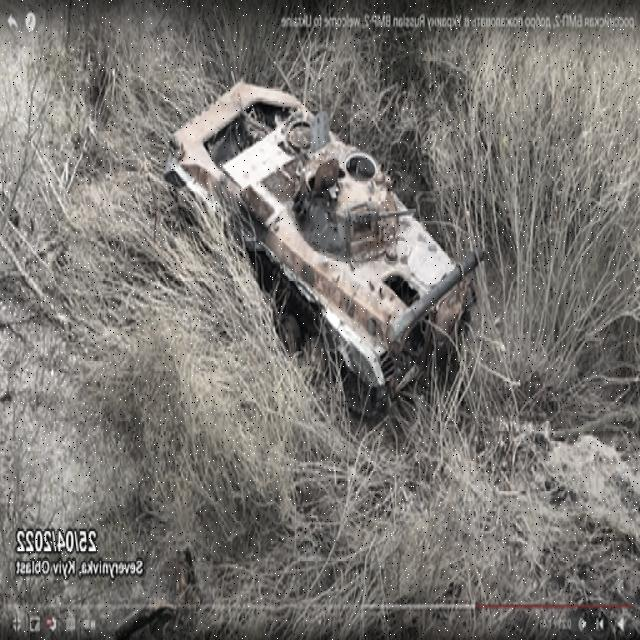APC-IFV: (160, 71, 506, 418)
